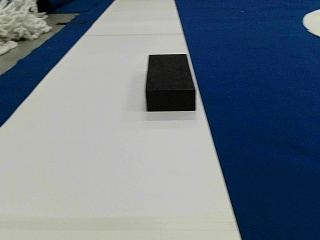block: (145, 53, 195, 110)
